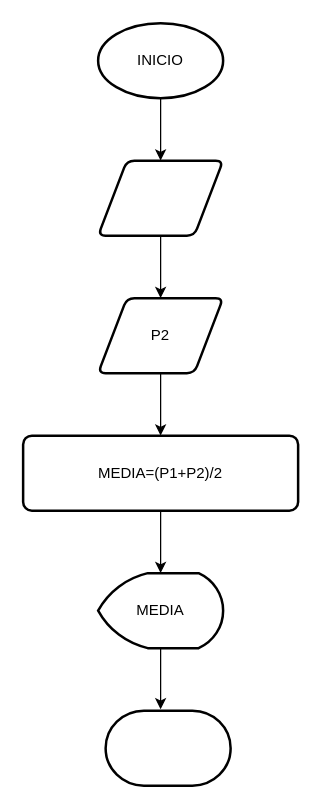
This 320x808 diagram has some shape labels left out. The box of each missing label's shape, as (x1, y1, x2, y2) in pixels:
FIM: (104, 709, 231, 786)
P1: (96, 159, 224, 236)
